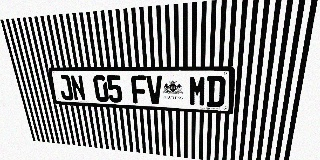0: (92, 75, 109, 102)
5: (106, 75, 123, 103)
D: (206, 76, 226, 107)
F: (131, 75, 147, 104)
J: (57, 75, 74, 101)
M: (189, 76, 207, 106)
N: (70, 75, 86, 101)
V: (146, 75, 163, 105)
